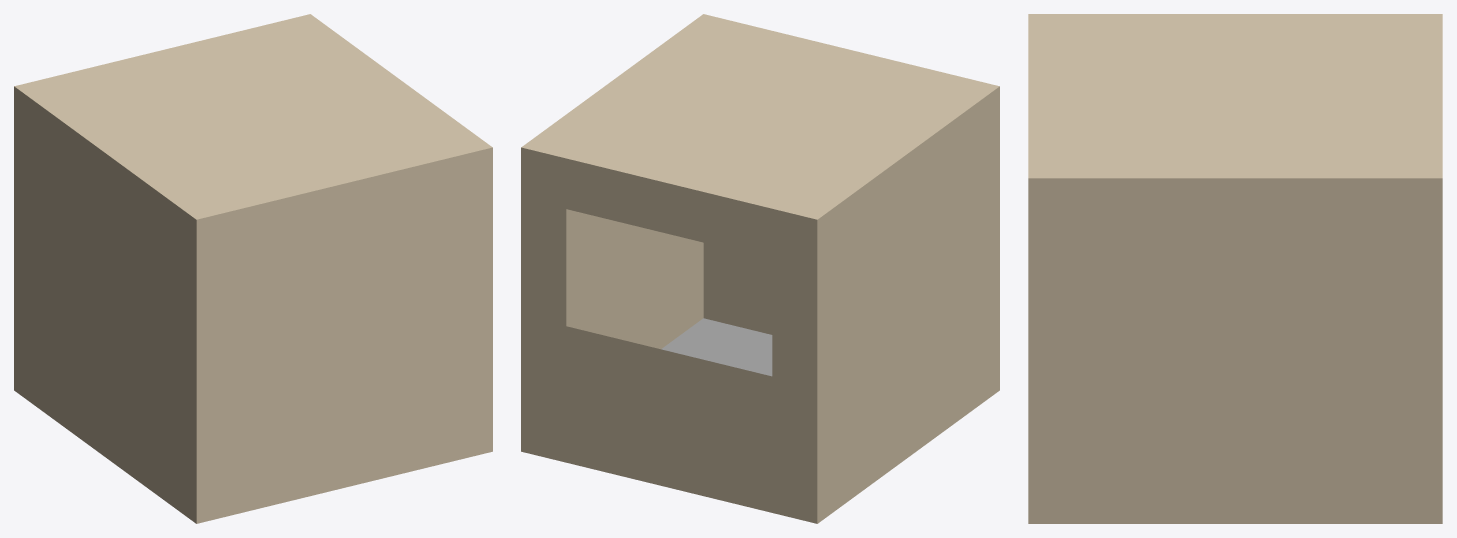
File: Art room static outside walls.fbx
3 renders of one model, left to right at view 1: azimuth 30°, elevation 25°; view 2: azimuth 150°, elevation 25°; view 3: azimuth 270°, elevation 25°, orthographic. The views are drawn at different scales.
Visible parts, largest first — view 1: Walls1; view 2: Walls1; view 3: Walls1.
Part boxes in pixels (<box>): Walls1: <box>14,14,492,523</box>; Walls1: <box>521,14,999,523</box>; Walls1: <box>1028,14,1442,523</box>.
Size of the model in its own units: 2348 by 2304 by 2503.
